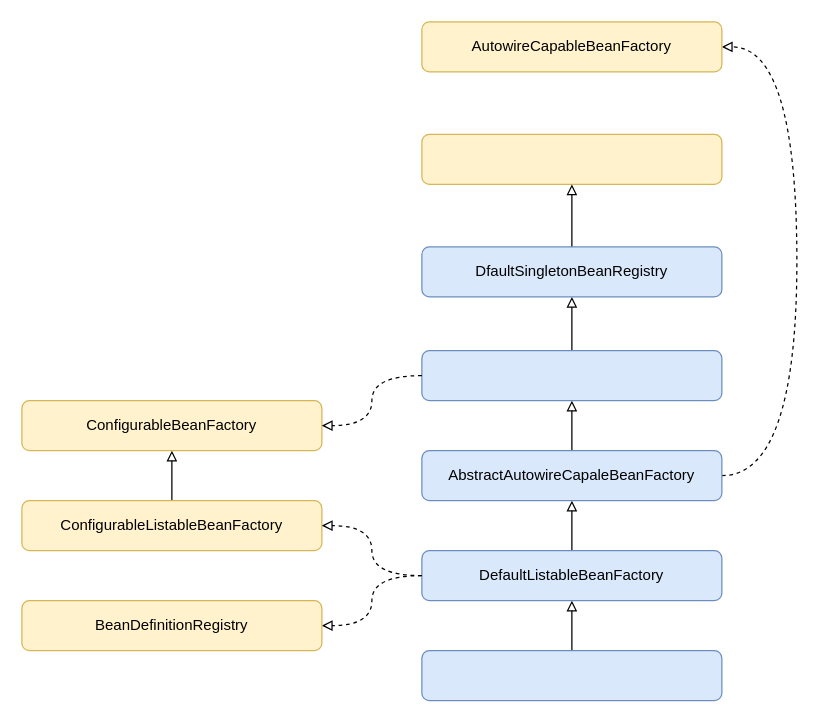
The diagram is 819 pixels wide and 723 high, and some of its shapes have lost their labels. The shapes that lost their labels are listed below. From the top down, each one's centre as x and y in pixels, then its label:
At point (571, 158): "SingletonBeanRegistry".
At point (571, 375): "AbstractBeanFactory".
At point (571, 675): "XmlBeanFactory".
